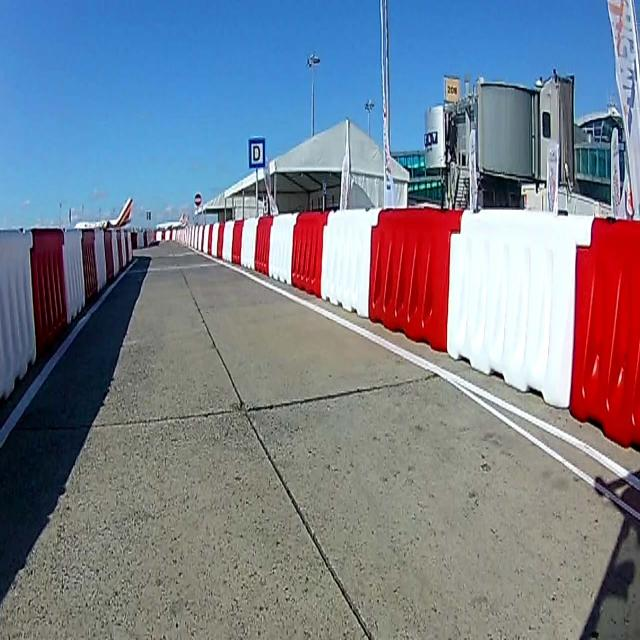durak: (248, 138, 268, 170)
girisyok: (194, 192, 202, 206)
